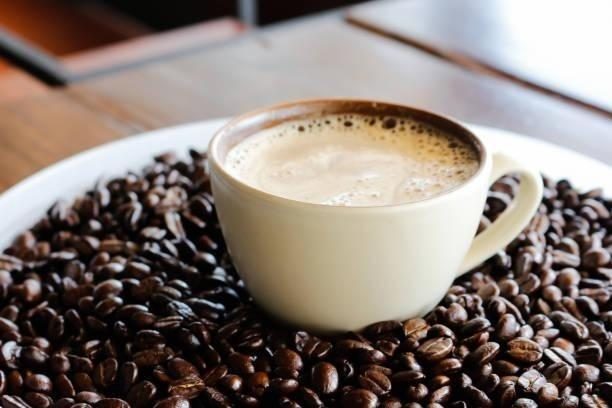cup-handle: (207, 95, 544, 343)
